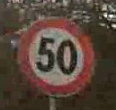limite 50: (17, 17, 93, 99)
